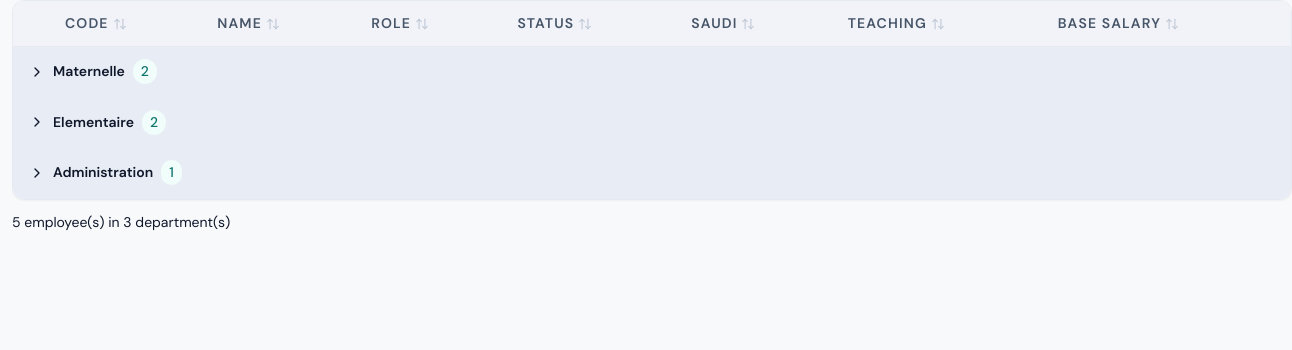
Test: EmployeeGrid department grouping › clicking a department group header expands it to show employees
The width and height of the screenshot is (1292, 350).
expect the text "Alice Martin" is not shown: met
// Click the Maternelle group header row
What coordinates should you click on to do the following:
click the text "Maternelle"
I would click on:
 (89, 72)
Its box is [53,61,125,82].
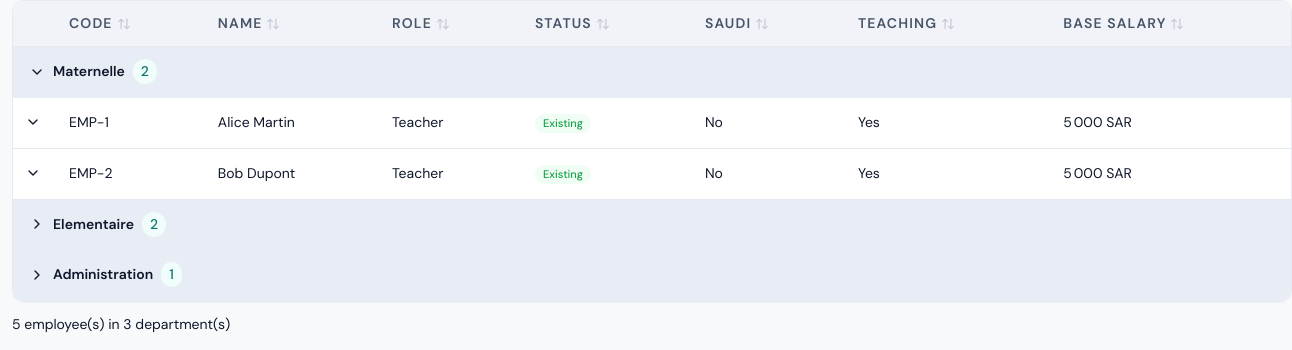
expect the text "Alice Martin" is shown: met, box [202,98,376,148]
expect the text "Bob Dupont" is shown: met, box [202,148,376,199]
